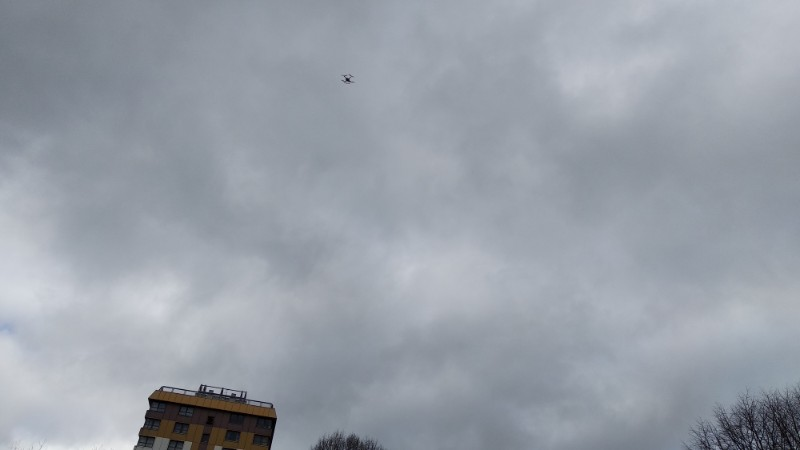drone: (340, 73, 356, 85)
